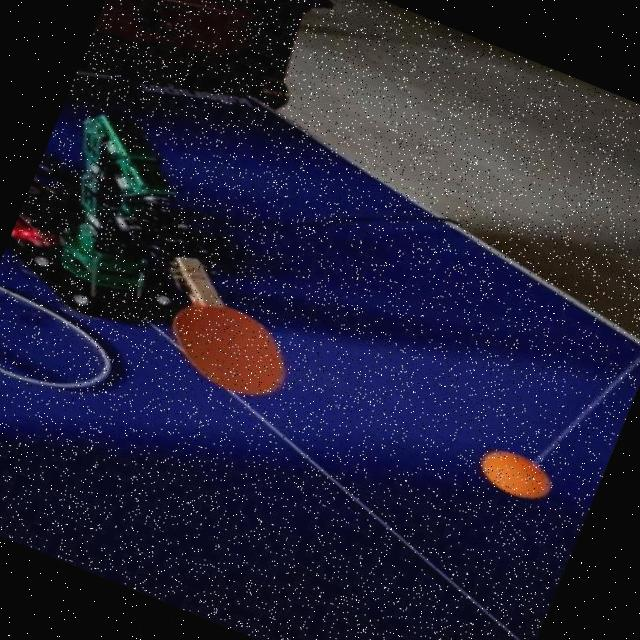ping-pong-ball: (472, 440, 560, 506)
